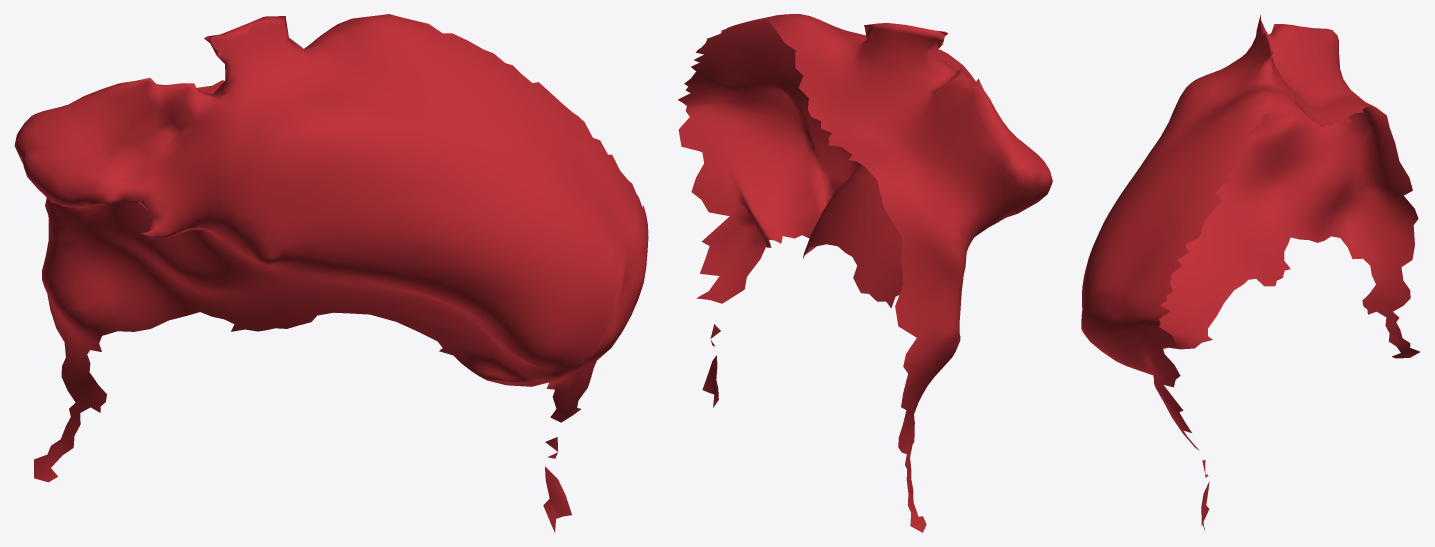
File: EDJ Caries_12_OC.glb
The picture shows the model from 3 angles, left to right: view 1: azimuth 30°, elevation 25°; view 2: azimuth 150°, elevation 25°; view 3: azimuth 270°, elevation 25°; orthographic projection. The views are drawn at different scales.
Visible parts, largest first — view 1: enml.001; view 2: enml.001; view 3: enml.001.
Boxes of the visible parts, x1=… form: enml.001: x1=14, y1=14, x2=648, y2=532; enml.001: x1=678, y1=14, x2=1052, y2=532; enml.001: x1=1081, y1=14, x2=1420, y2=530.
Bounding box in the file's own units: 5.02 × 4.95 × 3.76.
